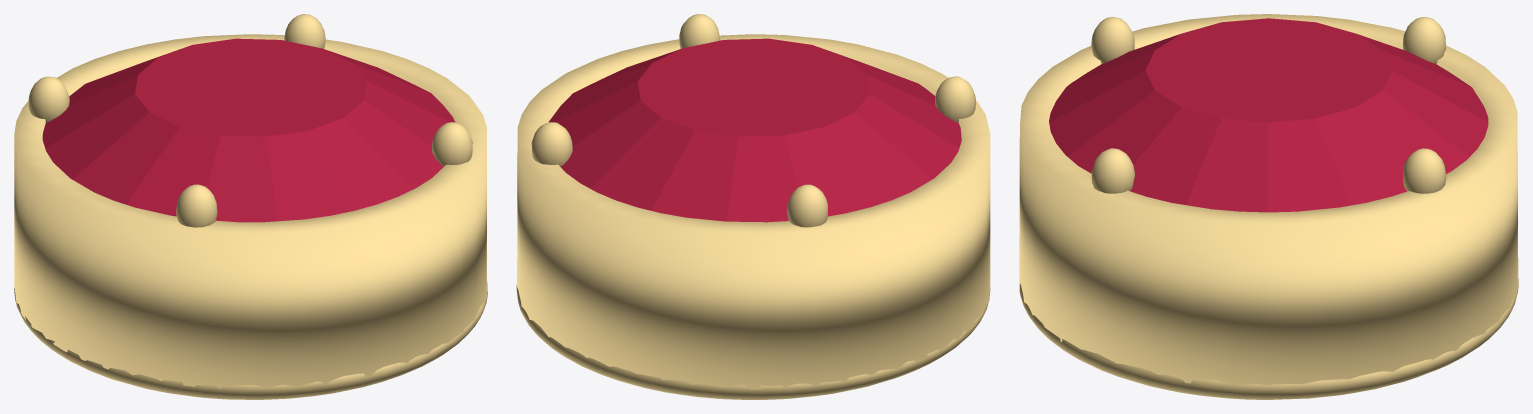
3 renders of one model, left to right at view 1: azimuth 30°, elevation 25°; view 2: azimuth 150°, elevation 25°; view 3: azimuth 270°, elevation 25°, orthographic. The views are drawn at different scales.
Visible parts, largest first — view 1: Torus.081, Ruby; view 2: Torus.081, Ruby; view 3: Torus.081, Ruby.
Part boxes in pixels (x1=…): Torus.081: x1=14, y1=14, x2=487, y2=399; Ruby: x1=42, y1=38, x2=455, y2=222; Torus.081: x1=516, y1=14, x2=990, y2=399; Ruby: x1=549, y1=38, x2=961, y2=222; Torus.081: x1=1019, y1=14, x2=1518, y2=399; Ruby: x1=1049, y1=18, x2=1488, y2=212.
Bounding box in the file's own units: 3.11 × 1.66 × 3.11.
